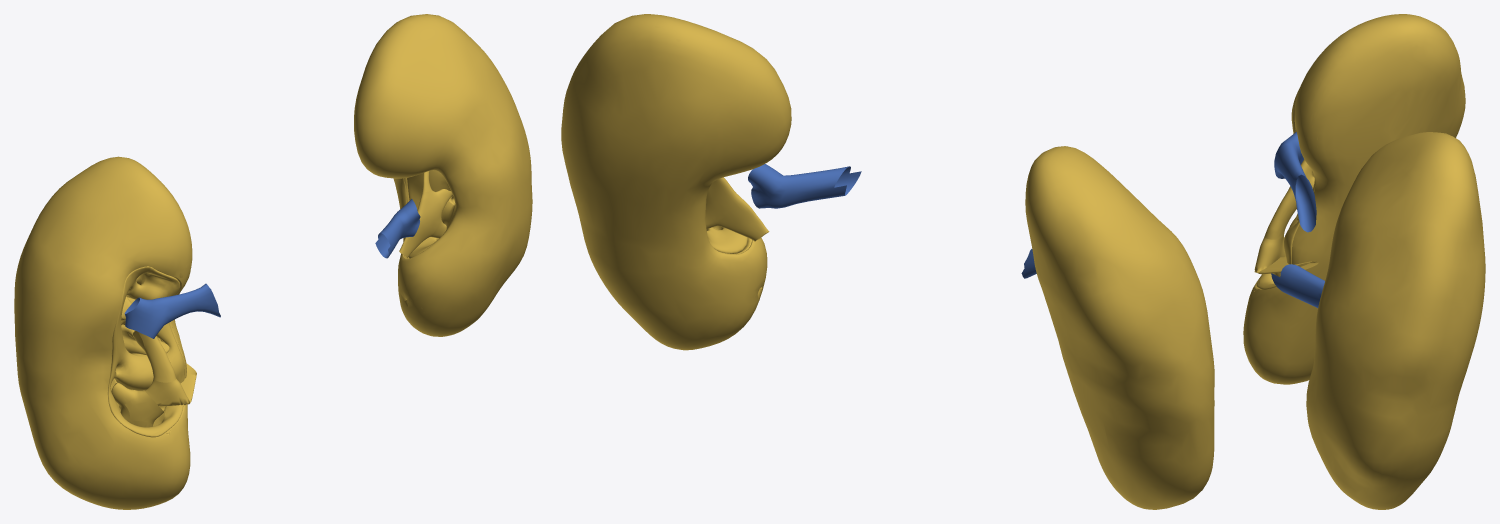
The model's file is kidney.glb.
3 views of the same model, side by side, from view 1: azimuth 30°, elevation 25°; view 2: azimuth 150°, elevation 25°; view 3: azimuth 270°, elevation 25° (orthographic). The views are drawn at different scales.
Parts seen in each view (by area): view 1: Fibrous capsule of kidney.r, Fibrous capsule of kidney.l, Hilum of kidney.r, Renal vein.r, Major calyces.r, Renal vein.l, Renal pelvis.l, Hilum of kidney.l, Renal pelvis.r, Minor calyces.r; view 2: Fibrous capsule of kidney.l, Fibrous capsule of kidney.r, Renal vein.l, Renal pelvis.l, Hilum of kidney.l; view 3: Fibrous capsule of kidney.l, Fibrous capsule of kidney.r, Renal vein.r, Renal vein.l, Renal pelvis.r, Major calyces.r, Hilum of kidney.r, Renal cortex.r.
Boxes of the visible parts, x1=… form: Fibrous capsule of kidney.r: x1=14, y1=156, x2=191, y2=509; Fibrous capsule of kidney.l: x1=354, y1=14, x2=532, y2=336; Hilum of kidney.r: x1=108, y1=266, x2=184, y2=437; Renal vein.r: x1=124, y1=283, x2=220, y2=338; Major calyces.r: x1=121, y1=296, x2=176, y2=424; Renal vein.l: x1=375, y1=199, x2=420, y2=258; Renal pelvis.l: x1=399, y1=190, x2=442, y2=257; Hilum of kidney.l: x1=407, y1=170, x2=455, y2=258; Renal pelvis.r: x1=145, y1=363, x2=196, y2=405; Minor calyces.r: x1=111, y1=317, x2=152, y2=427; Fibrous capsule of kidney.l: x1=561, y1=14, x2=791, y2=350; Fibrous capsule of kidney.r: x1=1025, y1=146, x2=1214, y2=509; Renal vein.l: x1=748, y1=164, x2=861, y2=208; Renal pelvis.l: x1=706, y1=177, x2=769, y2=241; Hilum of kidney.l: x1=706, y1=226, x2=747, y2=253; Fibrous capsule of kidney.l: x1=1306, y1=132, x2=1485, y2=509; Fibrous capsule of kidney.r: x1=1243, y1=14, x2=1465, y2=384; Renal vein.r: x1=1274, y1=132, x2=1316, y2=232; Renal vein.l: x1=1271, y1=264, x2=1324, y2=307; Renal pelvis.r: x1=1254, y1=234, x2=1318, y2=274; Major calyces.r: x1=1264, y1=159, x2=1313, y2=276; Hilum of kidney.r: x1=1256, y1=124, x2=1315, y2=289; Renal cortex.r: x1=1248, y1=28, x2=1403, y2=366.
Size of the model in its own units: 0.1791 by 0.12 by 0.0593.
